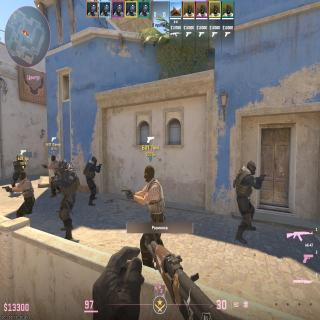CT-Body: (52, 159, 79, 240), (236, 160, 256, 241), (84, 156, 98, 203), (13, 154, 26, 175)
CT-Head: (246, 160, 256, 175), (58, 159, 67, 173), (92, 156, 97, 164), (16, 154, 21, 161)
T-Body: (143, 164, 165, 246), (17, 171, 35, 217), (49, 155, 59, 193)
T-Head: (144, 165, 154, 183), (19, 172, 26, 181), (51, 156, 56, 162)
